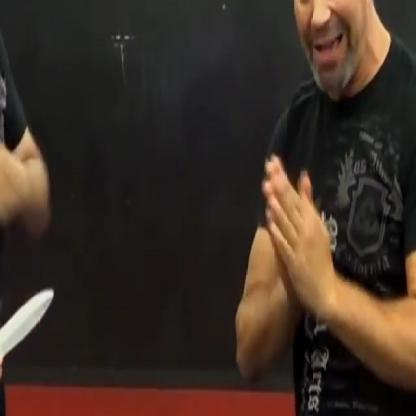knife: (0, 276, 59, 415)
